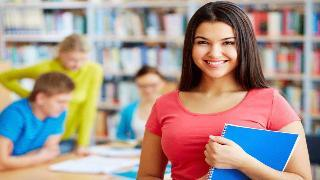person - v3 P: (137, 2, 311, 179), (0, 34, 103, 154), (0, 72, 74, 169), (116, 66, 164, 140)
